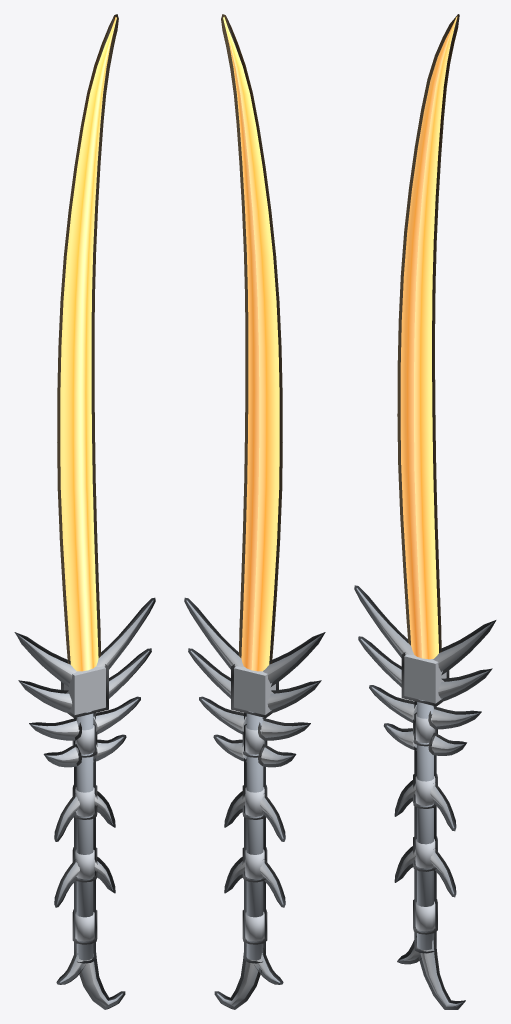
Rendered from w_amber_fang.glb.
The picture shows the model from 3 angles, left to right: view 1: azimuth 30°, elevation 25°; view 2: azimuth 150°, elevation 25°; view 3: azimuth 330°, elevation 25°; orthographic projection.
Parts seen in each view (by area): view 1: Weapon_0, Outline, Weapon_1; view 2: Weapon_0, Outline, Weapon_1; view 3: Weapon_0, Outline, Weapon_1.
Boxes of the visible parts, left/top/right/bottom form: Weapon_0: left=60, top=17, right=116, bottom=671; Outline: left=14, top=14, right=155, bottom=1009; Weapon_1: left=17, top=600, right=153, bottom=1006; Weapon_0: left=223, top=17, right=279, bottom=671; Outline: left=184, top=14, right=325, bottom=1009; Weapon_1: left=186, top=600, right=322, bottom=1006; Weapon_0: left=400, top=16, right=457, bottom=659; Outline: left=354, top=14, right=496, bottom=1009; Weapon_1: left=356, top=588, right=493, bottom=1006.
Bounding box in the file's own units: 0.2241 × 1.51 × 0.0355.
